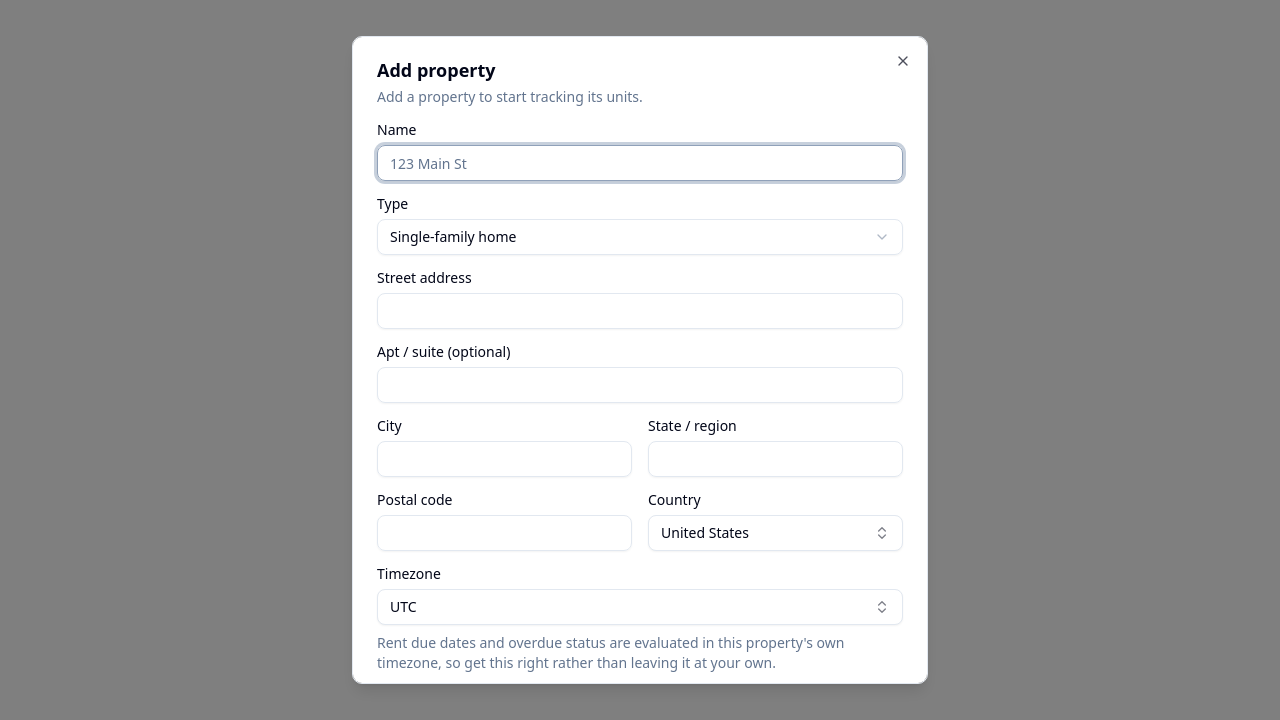
Test: PropertyFormDialog › shows the country as a searchable select of names, not a 2-letter text box
Click the dropdown named "country".
click(776, 533)  # box [648,515,903,551]
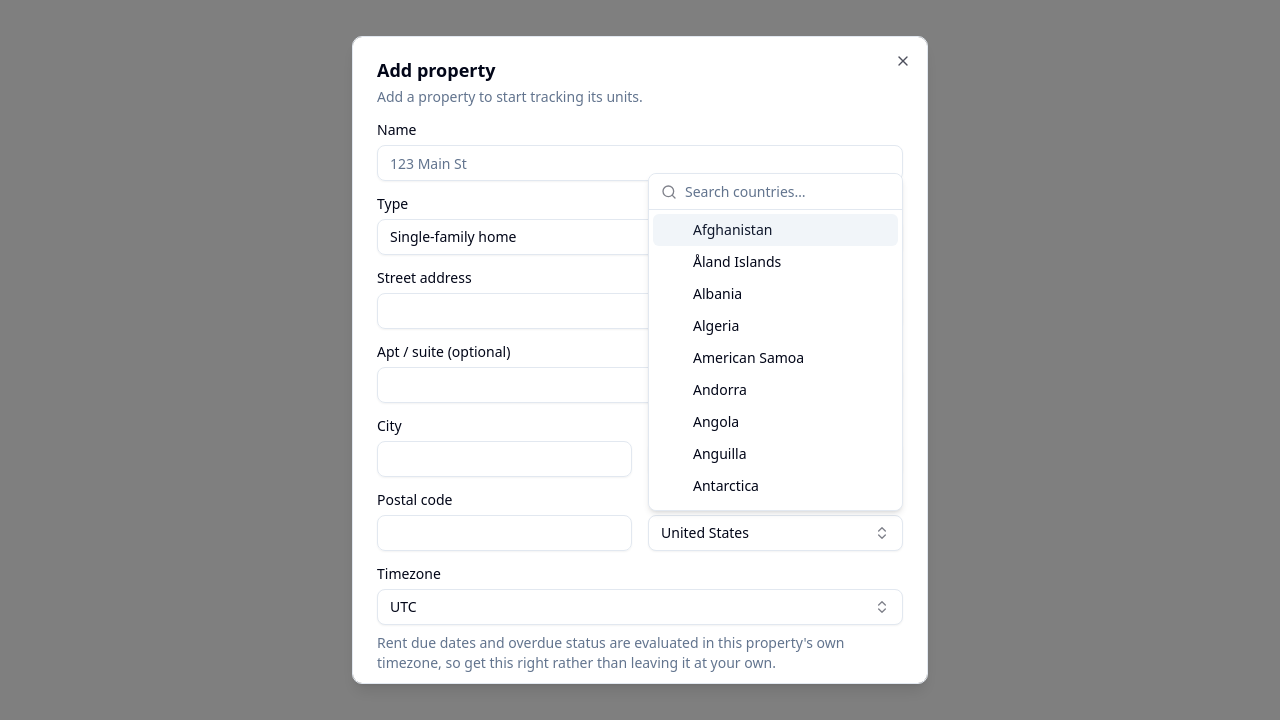
Type "nepal" into the dropdown with placeholder "Search countries…".
click(788, 192); type("nepal")  # box [685,172,890,212]
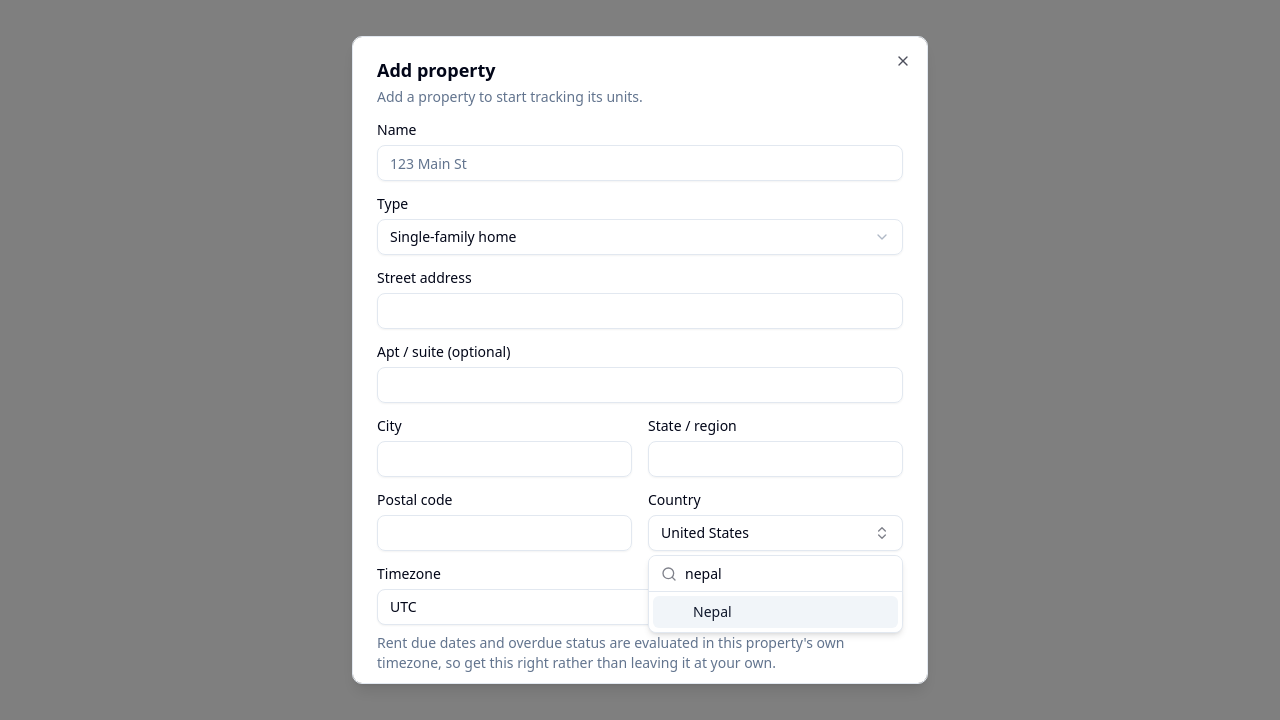
Click the option "Nepal".
click(776, 612)  # box [653,596,898,628]
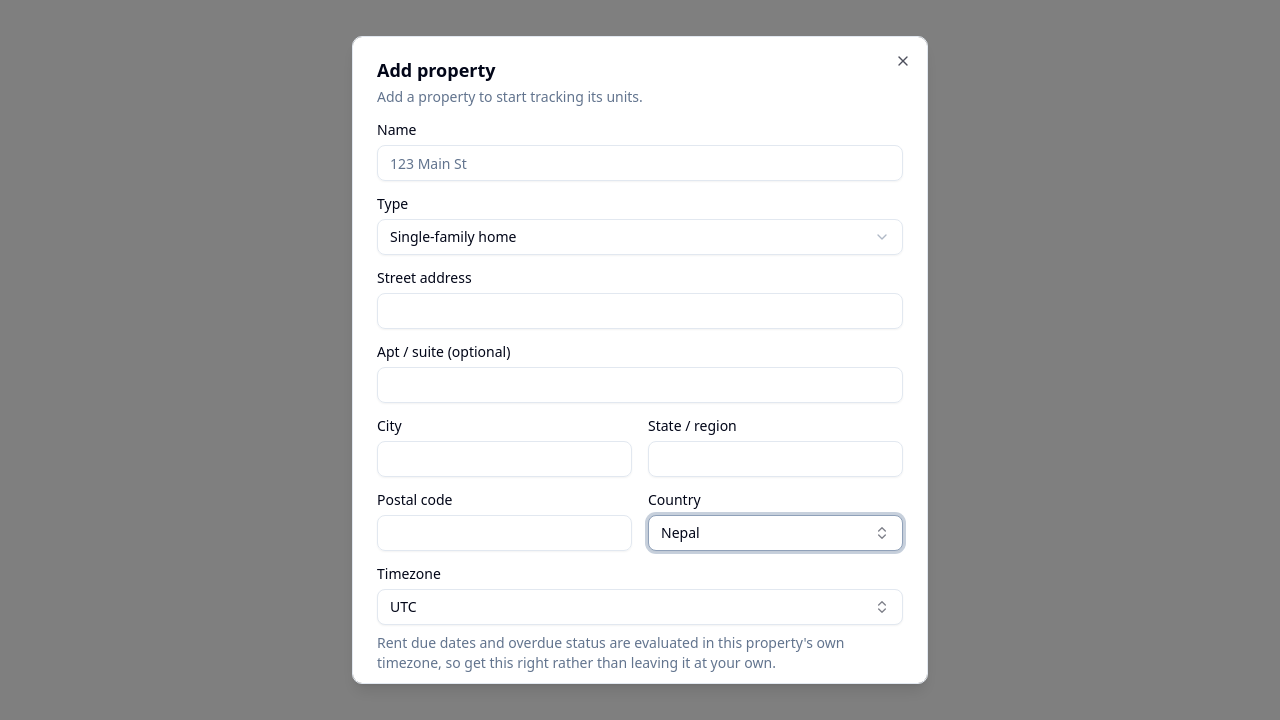
Check: the dropdown named "country" reads "Nepal", box [648,515,903,551]
